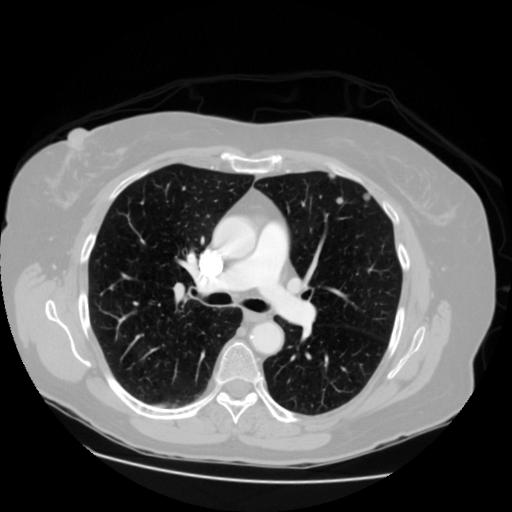nodule: (333, 193, 347, 207)
